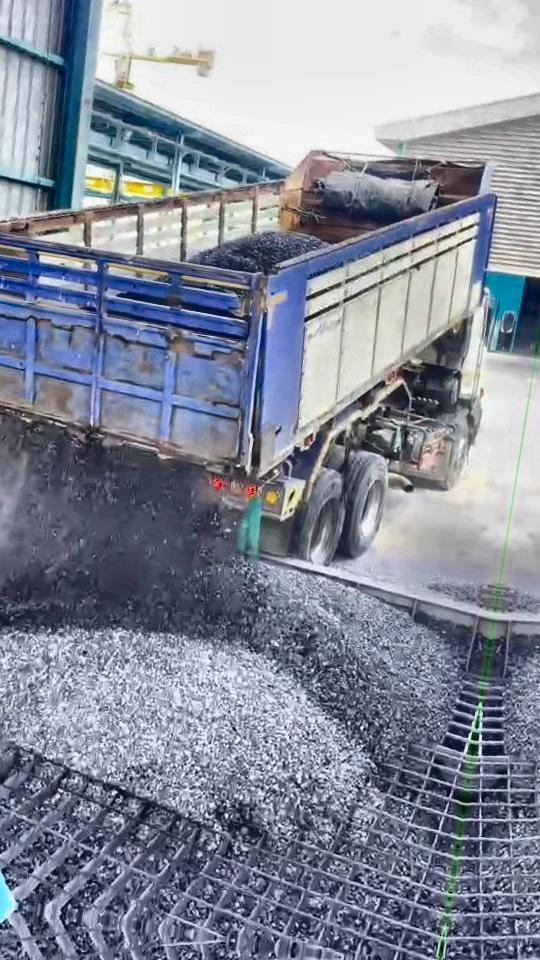gravel: (0, 629, 369, 842), (207, 560, 468, 759), (0, 417, 230, 630), (189, 233, 324, 273), (429, 583, 498, 609)
